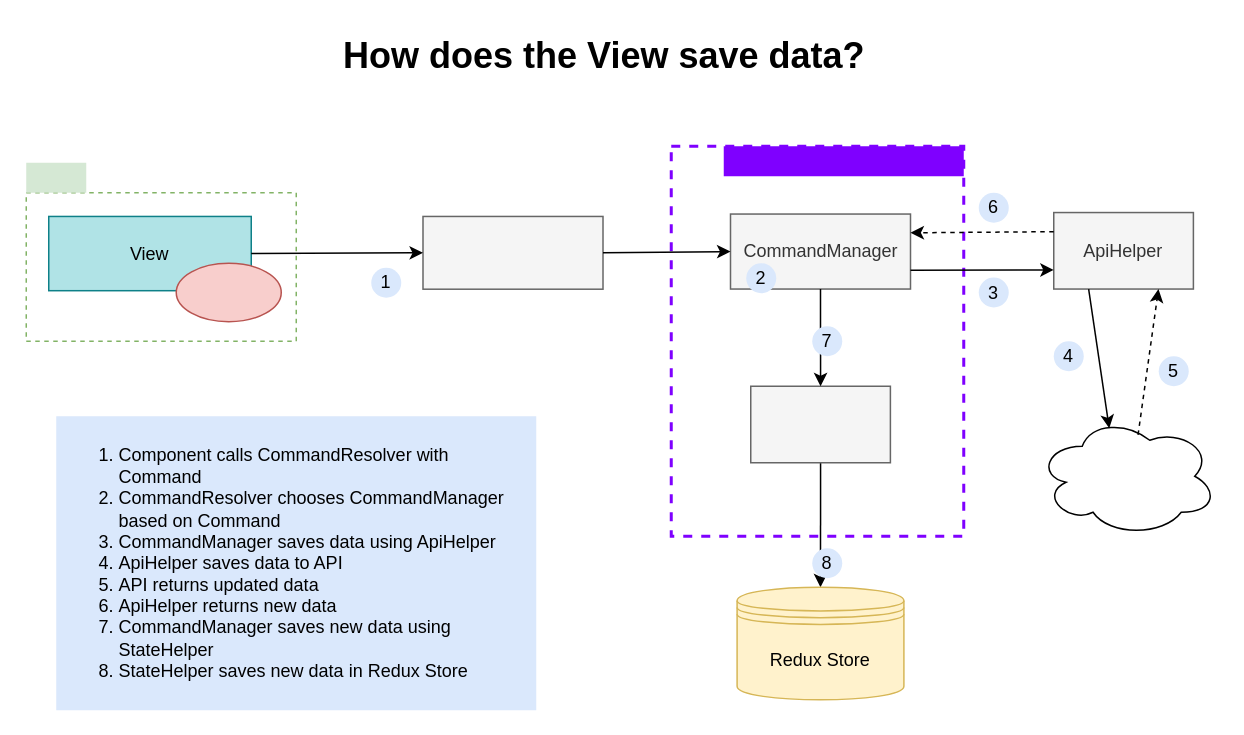
This 1244x735 diagram has some shape labels left out. The shapes that lost their labels are listed below. From the top down, each one's centre as x and y in pixels, then its label:
At point 56,177: "React".
At point 843,161: "1 for each command type".
At point 512,252: "CommandResolver".
At point 228,292: "Command".
At point 819,424: "StateHelper".
At point 1126,475: "API".
